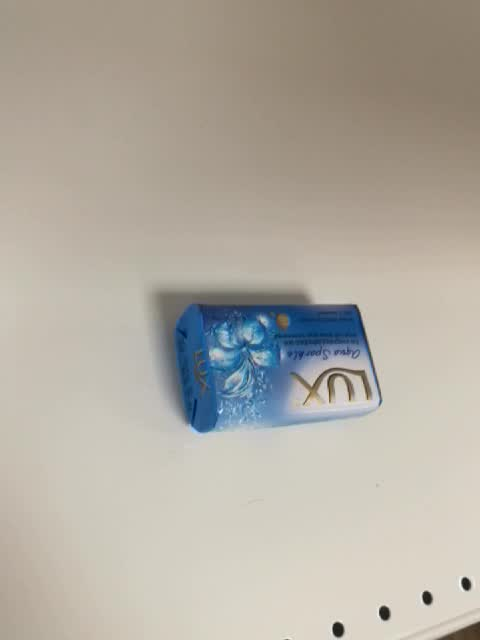soap: (166, 303, 383, 434)
